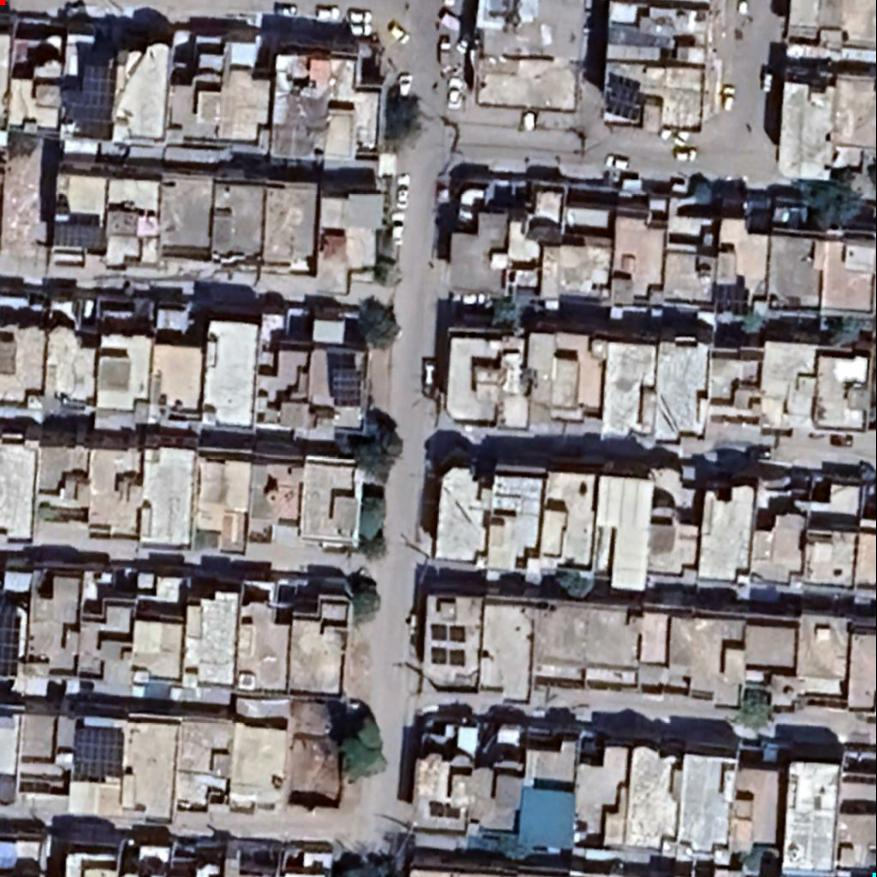Solarpanel: (61, 58, 122, 145), (67, 721, 128, 787), (598, 67, 652, 125), (48, 216, 112, 255), (324, 363, 370, 414), (425, 618, 469, 670), (0, 599, 25, 680), (425, 800, 462, 822)
